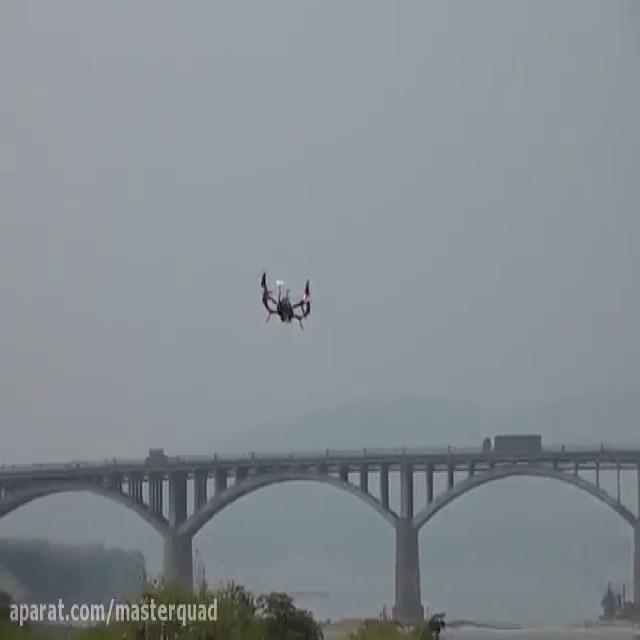drone: (254, 265, 316, 327)
